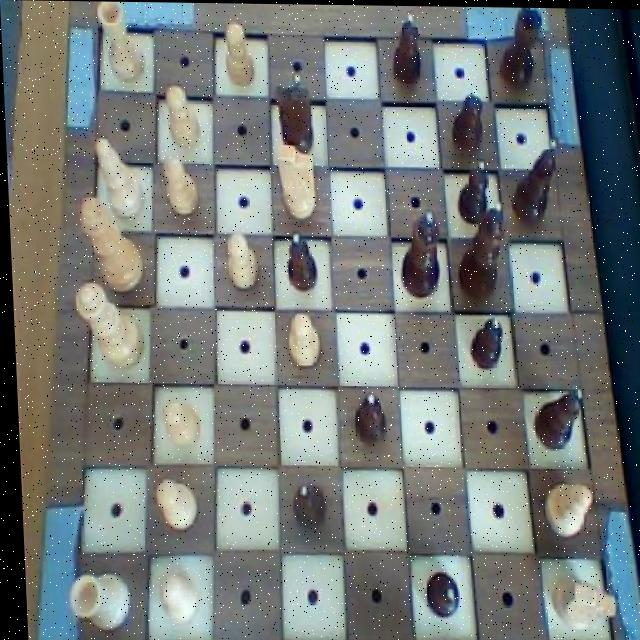bishop: (504, 134, 562, 230), (524, 380, 587, 454)
black-bishop: (451, 197, 511, 307)
black-king: (269, 69, 316, 161)
black-knight: (385, 5, 426, 90), (444, 80, 488, 156), (451, 150, 489, 226), (282, 471, 326, 536), (462, 308, 503, 374), (281, 225, 319, 294), (415, 566, 458, 622), (346, 390, 387, 447)
black-pawn: (393, 201, 442, 301)
black-queen: (496, 6, 546, 94)
black-rook: (91, 134, 145, 223), (535, 471, 591, 543)
white-bishop: (73, 191, 144, 293)
white-king: (542, 564, 618, 638), (271, 138, 322, 223)
white-knight: (156, 148, 202, 227), (146, 564, 199, 628), (217, 16, 259, 92), (161, 80, 204, 153), (147, 474, 196, 536), (157, 391, 203, 455), (282, 306, 324, 371), (222, 227, 261, 294)
white-pawn: (71, 279, 143, 372)
white-queen: (92, 1, 149, 86), (58, 567, 129, 633)
